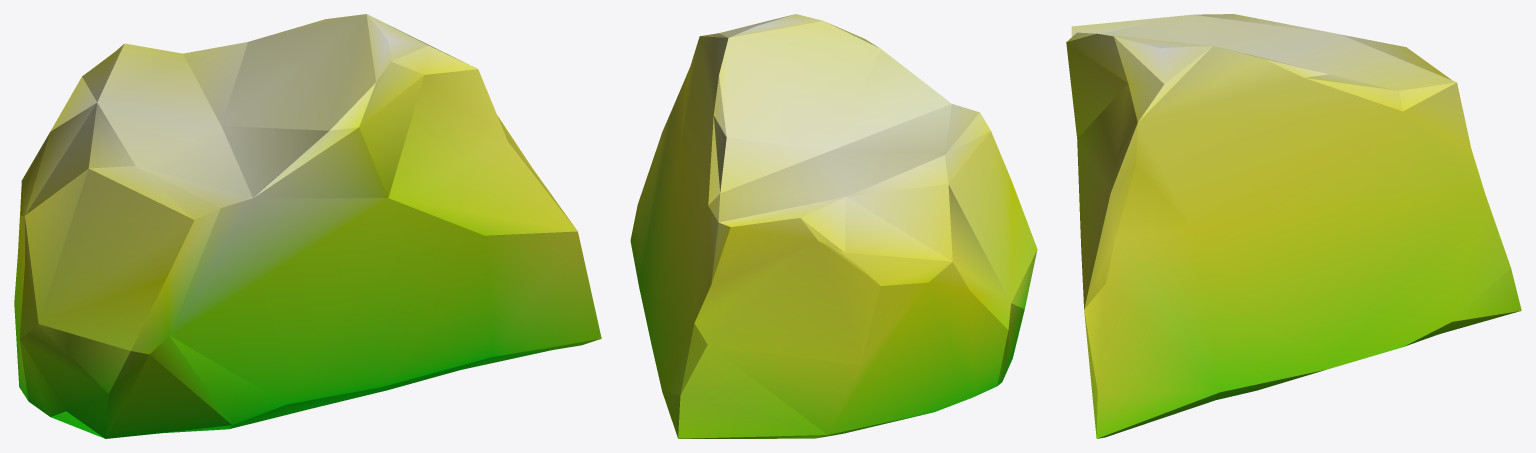
File: rock_solo_04_LOD1.fbx
3 views of the same model, side by side, from view 1: azimuth 30°, elevation 25°; view 2: azimuth 150°, elevation 25°; view 3: azimuth 270°, elevation 25° (orthographic). The views are drawn at different scales.
Visible parts, largest first — view 1: LOD1; view 2: LOD1; view 3: LOD1.
Part boxes in pixels (<box>): LOD1: <box>14,14,601,438</box>; LOD1: <box>630,14,1037,438</box>; LOD1: <box>1066,14,1521,438</box>.
Size of the model in its own units: 68582 by 42325 by 54983.
